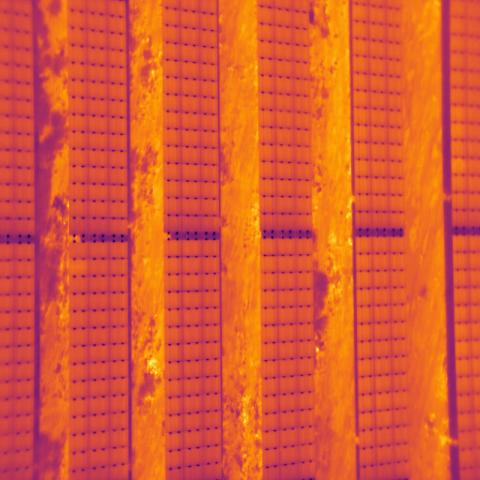fault: (452, 156, 468, 177)
